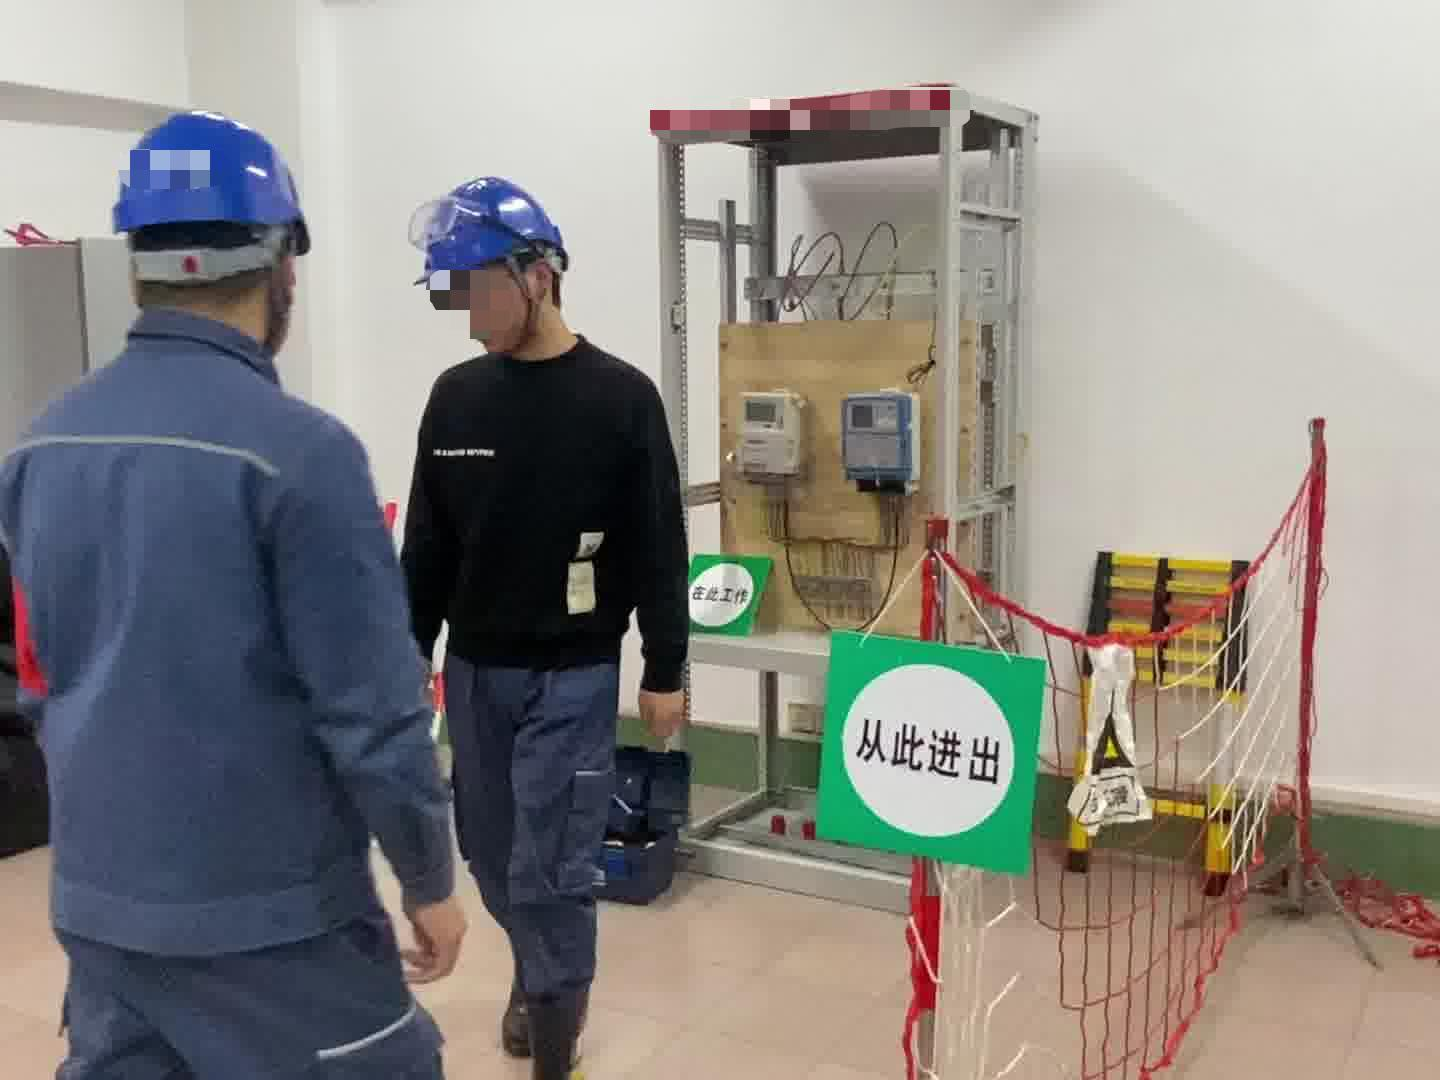halt: (109, 113, 322, 345), (414, 175, 579, 361)
inear: (509, 250, 564, 324)
